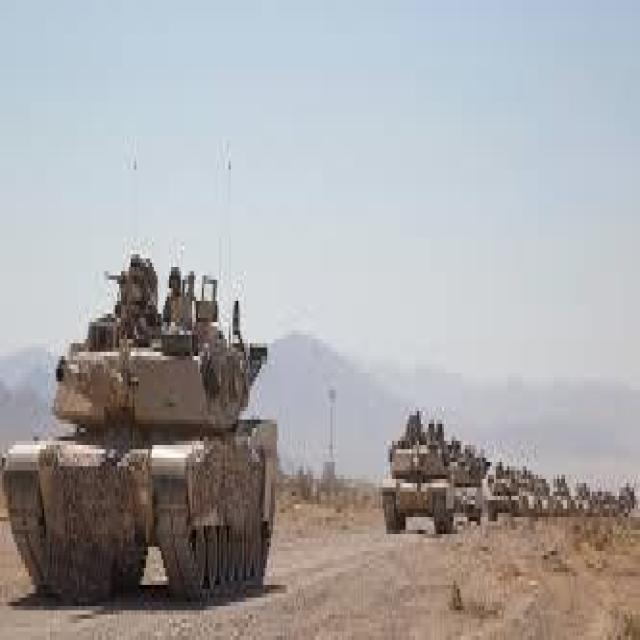MIL_MBT: (3, 256, 280, 608), (368, 407, 453, 543), (449, 432, 485, 530), (487, 454, 520, 521), (515, 458, 538, 526), (548, 475, 571, 521), (572, 479, 591, 517), (536, 470, 550, 517)
